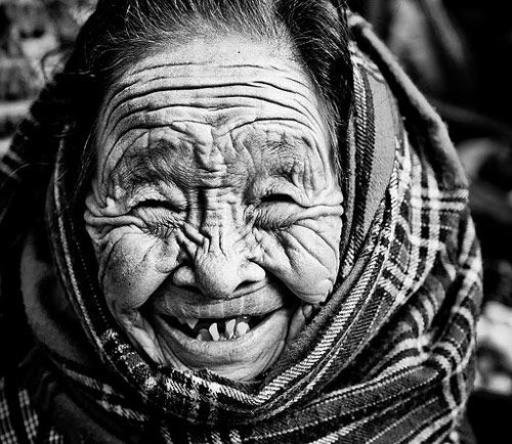left_eye: (261, 191, 317, 216)
left_lip_corner: (263, 300, 293, 326)
right_eye: (133, 194, 182, 217)
right_lip_corner: (153, 308, 169, 325)
